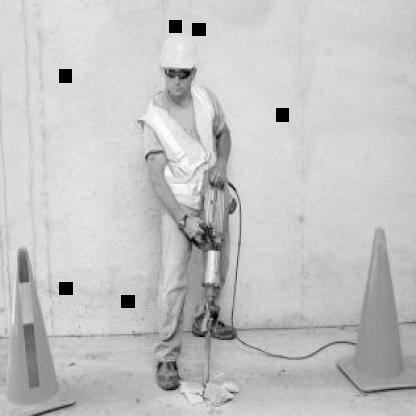helmet: (156, 23, 204, 103)
